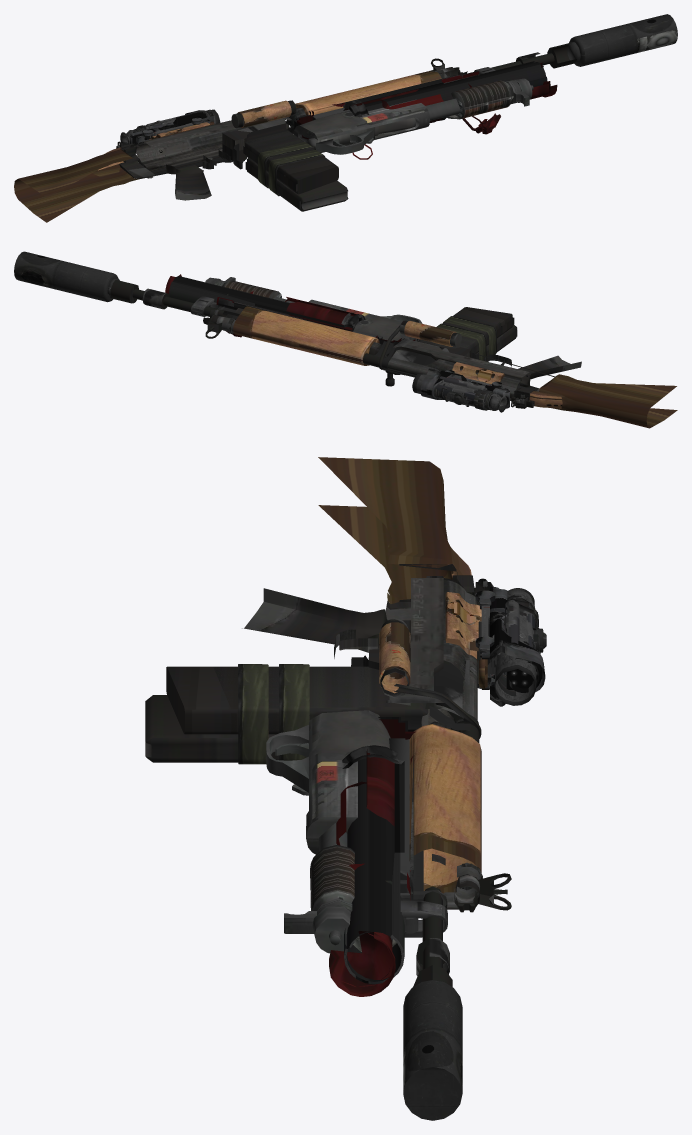
The model's file is t5_weapon_fal_viewmodel.glb.
3 views of the same model, one above another, from view 1: azimuth 30°, elevation 25°; view 2: azimuth 150°, elevation 25°; view 3: azimuth 270°, elevation 25° (orthographic). The views are drawn at different scales.
Parts seen in each view (by area): view 1: t5_weapon_fal_viewmodel; view 2: t5_weapon_fal_viewmodel; view 3: t5_weapon_fal_viewmodel.
Part boxes in pixels (bbox=[...]): t5_weapon_fal_viewmodel: bbox=[14, 14, 677, 222]; t5_weapon_fal_viewmodel: bbox=[14, 251, 677, 428]; t5_weapon_fal_viewmodel: bbox=[145, 457, 546, 1120].
Bounding box in the file's own units: 1.14 × 0.1163 × 0.3161.
Materials: 20 (19 with a texture image).
